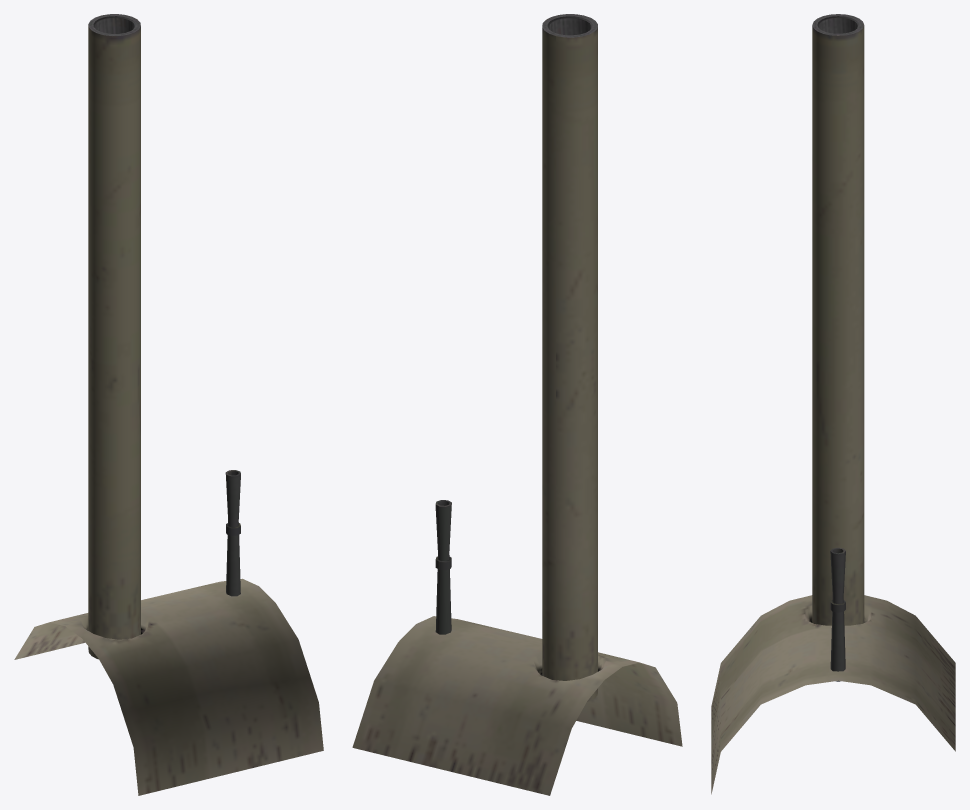
Rendered from Gun_02.glb.
3 renders of one model, left to right at view 1: azimuth 30°, elevation 25°; view 2: azimuth 150°, elevation 25°; view 3: azimuth 270°, elevation 25°, orthographic. The views are drawn at different scales.
Parts seen in each view (by area): view 1: set_0_group_0; view 2: set_0_group_0; view 3: set_0_group_0.
Part boxes in pixels (x1,y1,x2,y2): set_0_group_0: (14,14,323,795); set_0_group_0: (352,14,682,795); set_0_group_0: (711,14,955,794).
Bounding box in the file's own units: 0.405 × 1.49 × 0.4706.
Materials: 1 (1 with a texture image).
